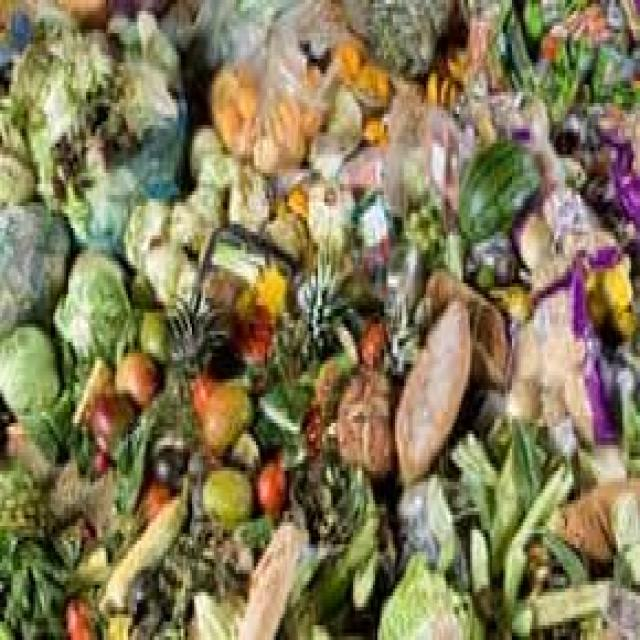food_waste: (52, 42, 608, 582)
